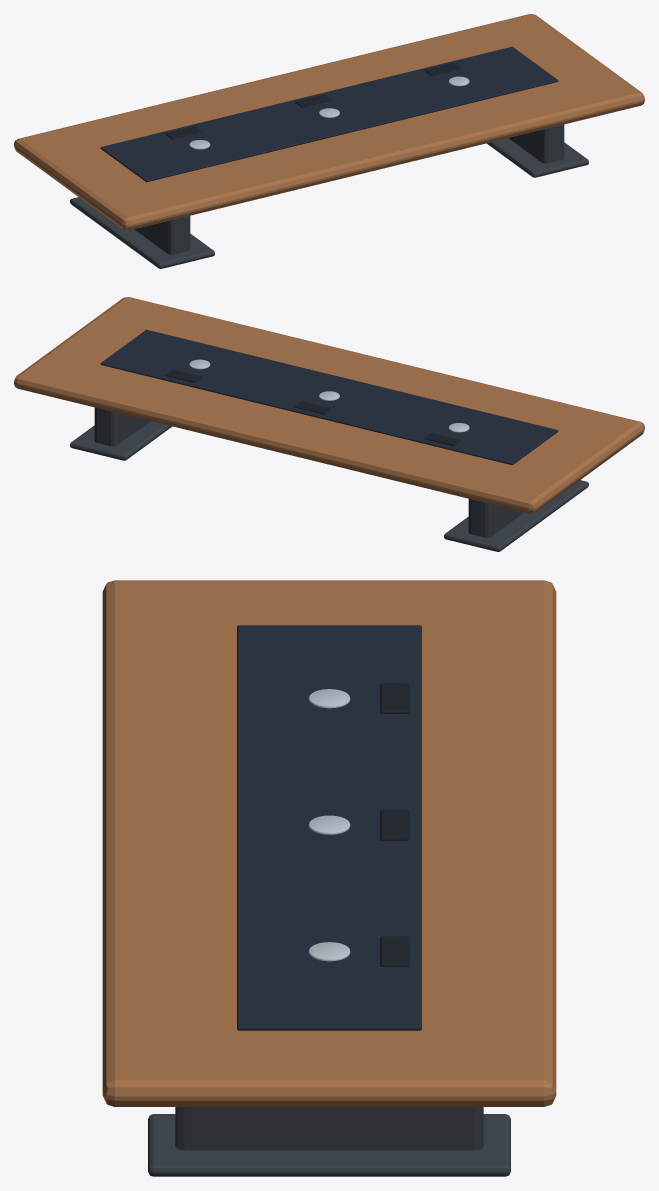
The model's file is meeting-table-blender.glb.
The picture shows the model from 3 angles, top to bottom: view 1: azimuth 30°, elevation 25°; view 2: azimuth 150°, elevation 25°; view 3: azimuth 270°, elevation 25°; orthographic projection. The views are drawn at different scales.
Parts seen in each view (by area): view 1: meetingTable · Warm oak, meetingTable · Midnight leather, meetingTable · Graphite metal, meetingTable · Soft black, meetingTable · Brushed aluminum; view 2: meetingTable · Warm oak, meetingTable · Midnight leather, meetingTable · Graphite metal, meetingTable · Soft black, meetingTable · Brushed aluminum; view 3: meetingTable · Warm oak, meetingTable · Midnight leather, meetingTable · Graphite metal, meetingTable · Soft black, meetingTable · Brushed aluminum.
Boxes of the visible parts, <box> form: meetingTable · Warm oak: <box>14,14,644,230</box>; meetingTable · Midnight leather: <box>100,46,558,182</box>; meetingTable · Graphite metal: <box>70,124,588,268</box>; meetingTable · Soft black: <box>165,63,460,139</box>; meetingTable · Brushed aluminum: <box>189,76,469,149</box>; meetingTable · Warm oak: <box>14,297,644,513</box>; meetingTable · Midnight leather: <box>100,329,558,465</box>; meetingTable · Graphite metal: <box>70,407,588,551</box>; meetingTable · Soft black: <box>165,369,460,445</box>; meetingTable · Brushed aluminum: <box>189,359,469,432</box>; meetingTable · Warm oak: <box>102,580,556,1106</box>; meetingTable · Midnight leather: <box>237,625,421,1030</box>; meetingTable · Graphite metal: <box>148,1107,510,1176</box>; meetingTable · Soft black: <box>380,683,409,966</box>; meetingTable · Brushed aluminum: <box>308,689,350,961</box>.
Bounding box in the file's own units: 6.65 × 0.8825 × 2.5.
